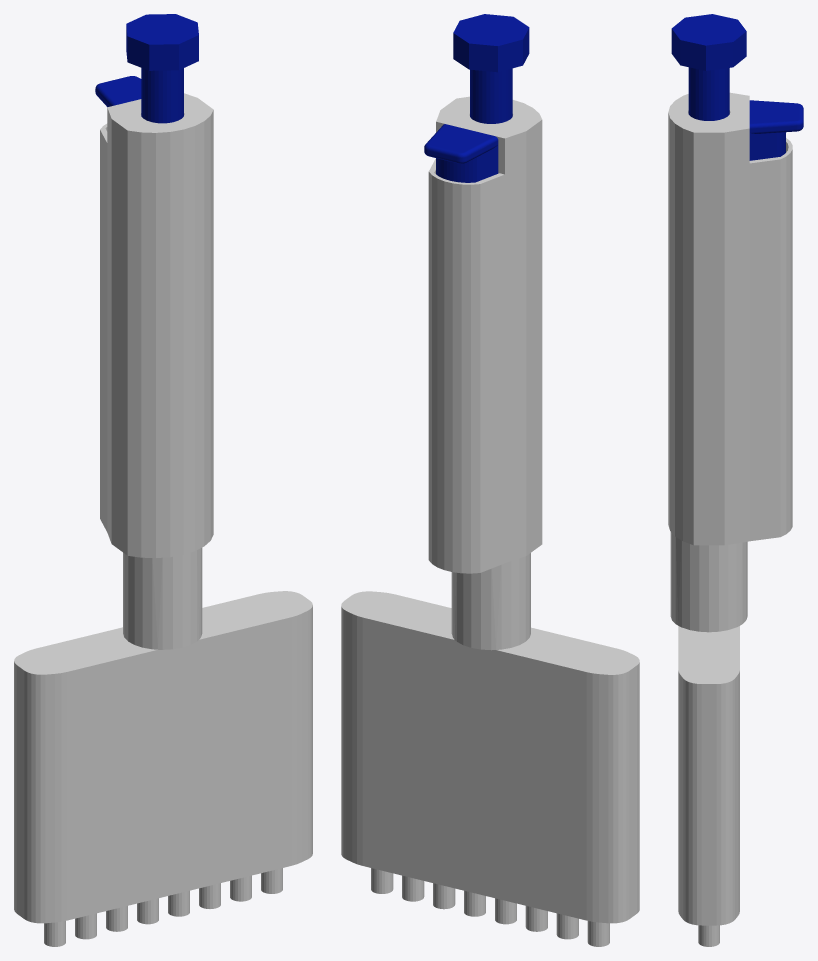
Rendered from pipette.glb.
3 renders of one model, left to right at view 1: azimuth 30°, elevation 25°; view 2: azimuth 150°, elevation 25°; view 3: azimuth 270°, elevation 25°, orthographic. The views are drawn at different scales.
Visible parts, largest first — view 1: Shape_IndexedFaceSet.236, Shape_IndexedFaceSet.237, Shape_IndexedFaceSet.238; view 2: Shape_IndexedFaceSet.236, Shape_IndexedFaceSet.237, Shape_IndexedFaceSet.238; view 3: Shape_IndexedFaceSet.236, Shape_IndexedFaceSet.237, Shape_IndexedFaceSet.238.
Boxes of the visible parts, x1,y1,x2,y2 form: Shape_IndexedFaceSet.236: (14,93,312,946); Shape_IndexedFaceSet.237: (126,14,198,123); Shape_IndexedFaceSet.238: (95,76,141,107); Shape_IndexedFaceSet.236: (341,96,639,946); Shape_IndexedFaceSet.237: (453,14,529,123); Shape_IndexedFaceSet.238: (424,124,498,182); Shape_IndexedFaceSet.236: (668,92,792,946); Shape_IndexedFaceSet.237: (671,14,746,120); Shape_IndexedFaceSet.238: (749,100,803,160).
Size of the model in its own units: 83 by 246 by 35.03.
